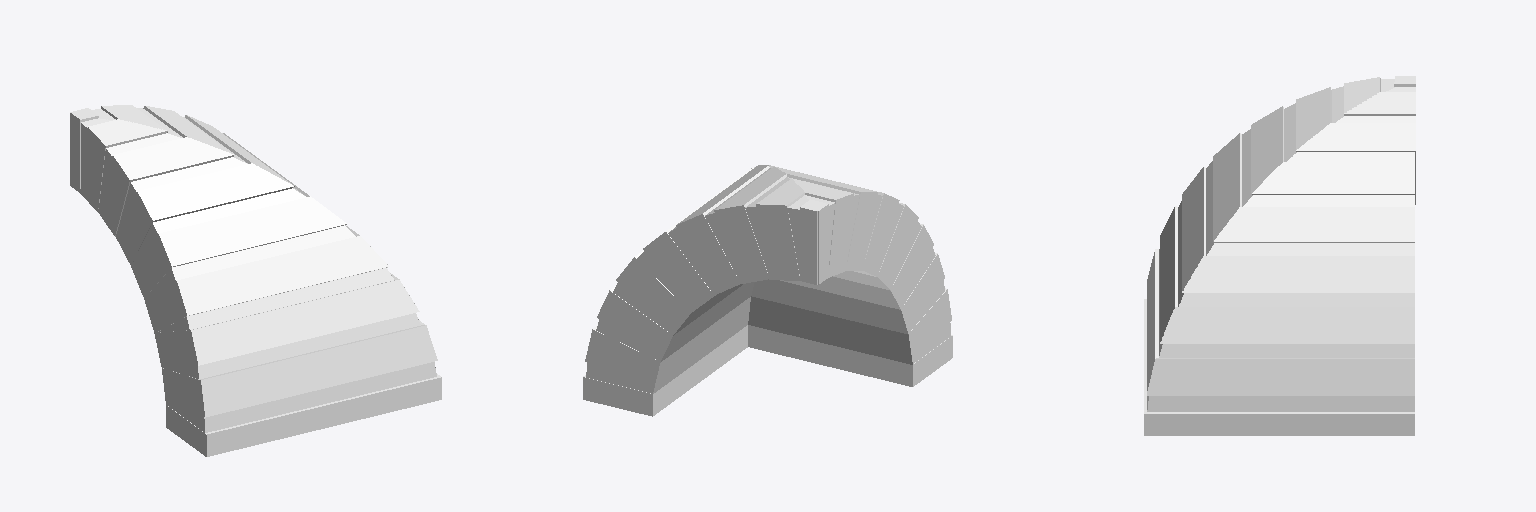
Rendered from mt_arch_inner.obj.
3 views of the same model, side by side, from view 1: azimuth 30°, elevation 25°; view 2: azimuth 150°, elevation 25°; view 3: azimuth 270°, elevation 25° (orthographic).
Visible parts, largest first — view 1: cube.038, cube.036, cube.037, cube.035, cube.034, cube.024, cube.033, cube.031, cube.030, cube.032, cube.029, cube.040 (+14 smaller); view 2: cube.038, cube.014, cube.037, cube.024, cube.013, cube.007, cube.009, cube.010, cube.008, cube.012, cube.036, cube.011 (+8 smaller); view 3: cube.014, cube.012, cube.013, cube.011, cube.010, cube.007, cube.004, cube.009, cube.016, cube.003, cube.006, cube.002 (+20 smaller).
Part boxes in pixels (bbox=[...]): cube.038: bbox=[162, 339, 371, 417]; cube.036: bbox=[144, 240, 353, 332]; cube.037: bbox=[154, 290, 364, 367]; cube.035: bbox=[131, 196, 337, 297]; cube.034: bbox=[116, 163, 294, 264]; cube.024: bbox=[166, 393, 372, 456]; cube.033: bbox=[98, 137, 233, 236]; cube.031: bbox=[169, 378, 370, 432]; cube.030: bbox=[157, 276, 355, 332]; cube.032: bbox=[80, 119, 167, 211]; cube.029: bbox=[146, 227, 341, 296]; cube.040: bbox=[164, 326, 364, 379]; cube.038: bbox=[748, 288, 951, 364]; cube.014: bbox=[585, 297, 750, 393]; cube.037: bbox=[751, 253, 944, 334]; cube.024: bbox=[748, 325, 952, 386]; cube.013: bbox=[597, 282, 754, 362]; cube.007: bbox=[583, 325, 747, 416]; cube.009: bbox=[714, 167, 786, 283]; cube.010: bbox=[676, 165, 769, 295]; cube.008: bbox=[756, 178, 804, 280]; cube.012: bbox=[616, 250, 742, 335]; cube.036: bbox=[780, 224, 933, 309]; cube.011: bbox=[643, 167, 753, 312]; cube.014: bbox=[1223, 358, 1414, 395]; cube.012: bbox=[1223, 256, 1414, 292]; cube.013: bbox=[1223, 307, 1414, 343]; cube.011: bbox=[1223, 207, 1414, 242]; cube.010: bbox=[1252, 162, 1414, 194]; cube.007: bbox=[1223, 412, 1414, 435]; cube.004: bbox=[1223, 396, 1414, 411]; cube.009: bbox=[1296, 123, 1415, 204]; cube.016: bbox=[1147, 358, 1222, 395]; cube.003: bbox=[1223, 293, 1414, 306]; cube.006: bbox=[1223, 344, 1414, 357]; cube.002: bbox=[1223, 243, 1414, 255].
Size of the model in its own units: 1.43 by 1.42 by 1.43.